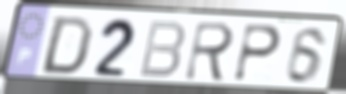2: (87, 15, 141, 82)
6: (284, 26, 330, 85)
B: (136, 19, 187, 81)
D: (37, 15, 96, 77)
P: (231, 22, 284, 84)
R: (182, 20, 238, 84)
